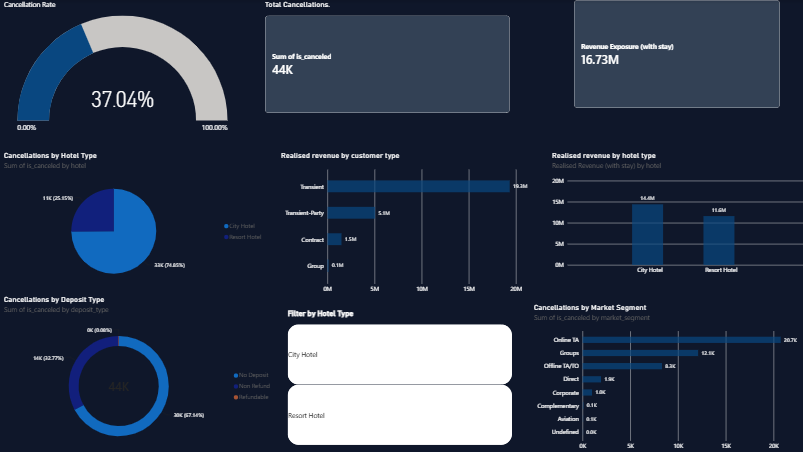

Layout of this report page (visuals, bound fields, positions):
{"tool":"powerbi","page":{"name":"Page 1","canvas":[1920,1080],"ordinal":0},"visuals":[{"type":"pieChart","title":"Cancellations by Hotel Type","fields":{"Category":["bookings_clean.hotel"],"Y":["Sum(bookings_clean.is_canceled)"]},"box":[11.9,360.8,623.6,323.4],"z":0},{"type":"donutChart","title":"Cancellations by Deposit Type","fields":{"Category":["bookings_clean.deposit_type"],"Y":["Sum(bookings_clean.is_canceled)"]},"box":[11.9,704.9,645.1,375.1],"z":1},{"type":"clusteredColumnChart","title":"Realised revenue by hotel type","fields":{"Category":["bookings_clean.hotel"],"Y":["bookings_clean.Realised Revenue (with stay)"]},"box":[1321.3,360.8,600.5,300.3],"z":2},{"type":"barChart","title":"Cancellations by Market Segment","fields":{"Category":["bookings_clean.market_segment"],"Y":["Sum(bookings_clean.is_canceled)"]},"box":[1278.3,724,640.4,356],"z":3},{"type":"cardVisual","title":"Total Cancellations.","fields":{"Data":["Sum(bookings_clean.is_canceled)"]},"box":[635.6,0,585.4,270],"z":4},{"type":"gauge","fields":{"Y":["bookings_clean.Cancellation Rate"]},"box":[11.9,0,566.3,320.2],"z":5},{"type":"cardVisual","fields":{"Data":["bookings_clean.Revenue Exposure (with stay)"]},"box":[1373.9,0,492.2,258.1],"z":6},{"type":"barChart","title":"Realised revenue by customer type","fields":{"Category":["bookings_clean.customer_type"],"Y":["bookings_clean.Realised Revenue (with stay)"]},"box":[673.8,360.8,603.4,343.6],"z":7},{"type":"listSlicer","title":"Filter by Hotel Type","fields":{"Values":["bookings_clean.hotel"]},"box":[673.8,724,568.7,356],"z":8}]}

Visuals, with their boxes in screenshot pixels (x1, y1, x2, y2), scaled from the page's 1920x1080 canvas onto the 803x452 screenshot:
"Cancellations by Hotel Type" pieChart: bbox=[5, 151, 266, 286]
"Cancellations by Deposit Type" donutChart: bbox=[5, 295, 275, 451]
"Realised revenue by hotel type" clusteredColumnChart: bbox=[553, 151, 802, 277]
"Cancellations by Market Segment" barChart: bbox=[535, 303, 802, 451]
"Total Cancellations." cardVisual: bbox=[266, 0, 511, 113]
gauge - bookings_clean.Cancellation Rate: bbox=[5, 0, 242, 134]
cardVisual - bookings_clean.Revenue Exposure (with stay): bbox=[575, 0, 780, 108]
"Realised revenue by customer type" barChart: bbox=[282, 151, 534, 295]
"Filter by Hotel Type" listSlicer: bbox=[282, 303, 520, 451]
